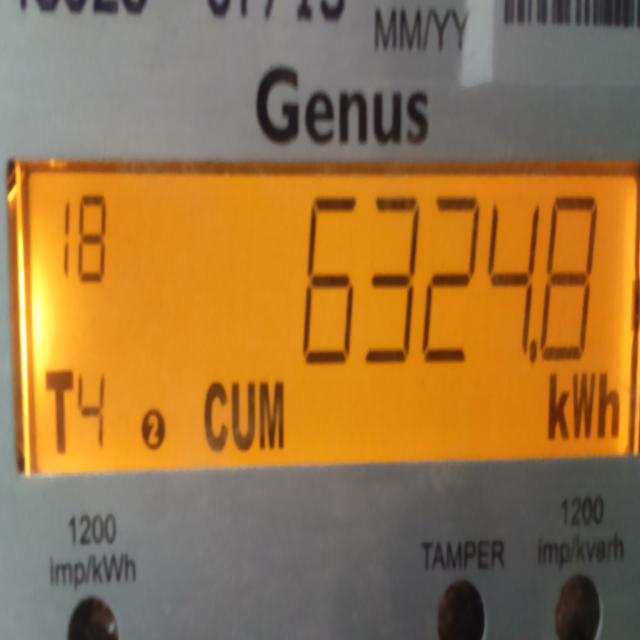.: (543, 185, 607, 371), (526, 339, 540, 371)
2: (421, 195, 478, 370)
3: (365, 189, 421, 377)
4: (482, 192, 544, 364)
6: (295, 190, 361, 388)
